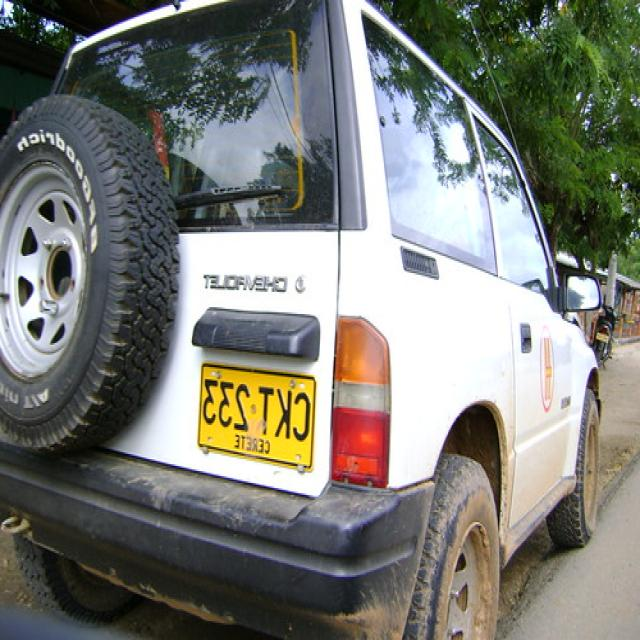placas: (199, 371, 311, 445)
